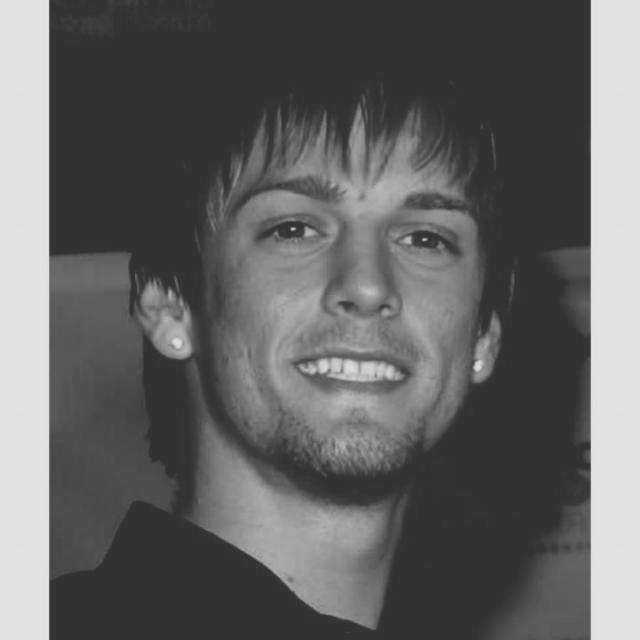real: (114, 91, 508, 501)
